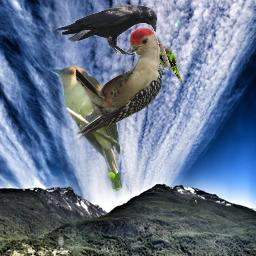Crow: (53, 4, 157, 55)
Cuckoo: (45, 64, 125, 196), (147, 38, 184, 83)
Woodpecker: (76, 27, 162, 141)
